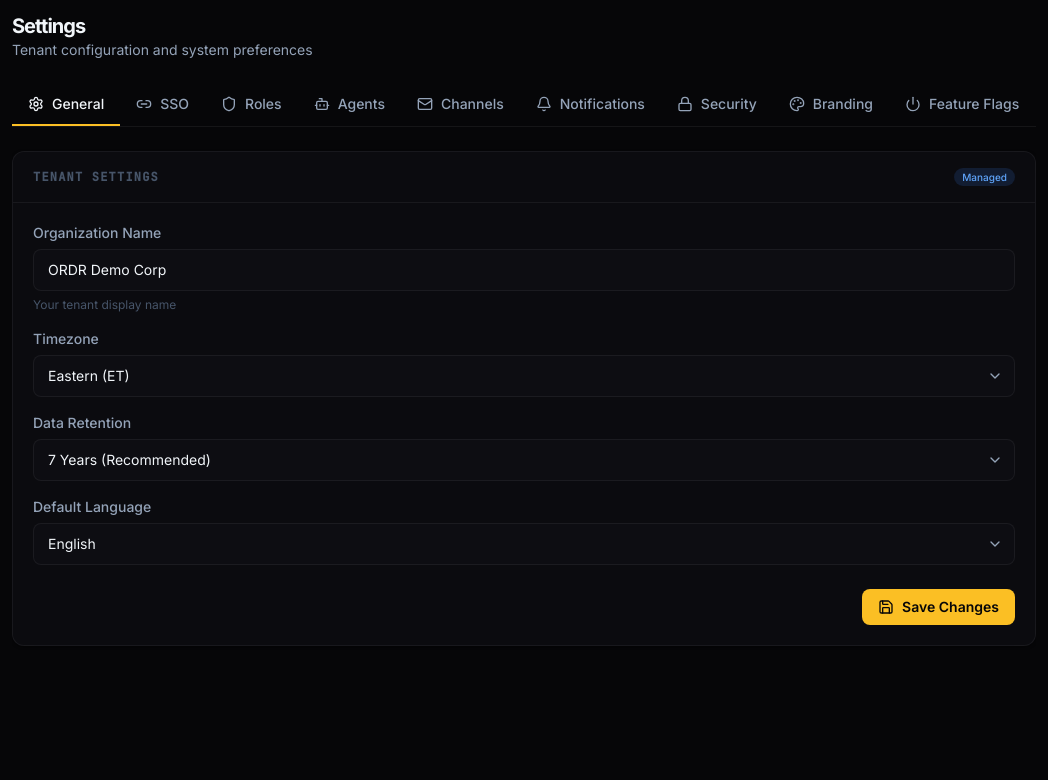
Test case: Settings › switching to SSO tab shows SSO Connections card
Check: the tab "General" is shown, box [12, 84, 120, 126]
Click the tab "SSO" at (163, 104), box [120, 84, 205, 124]
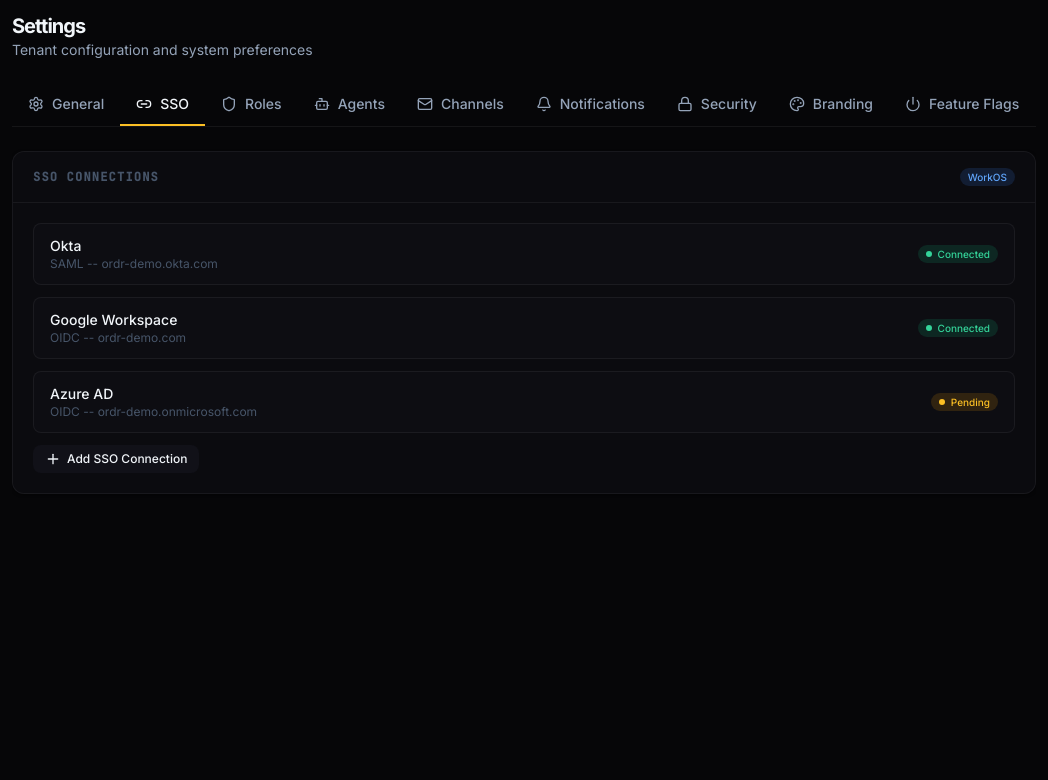
Check: the heading "SSO Connections" is shown, box [33, 169, 159, 185]
